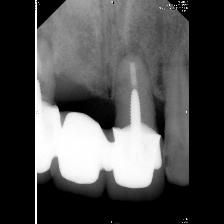apical_lesion: (107, 29, 166, 203)
